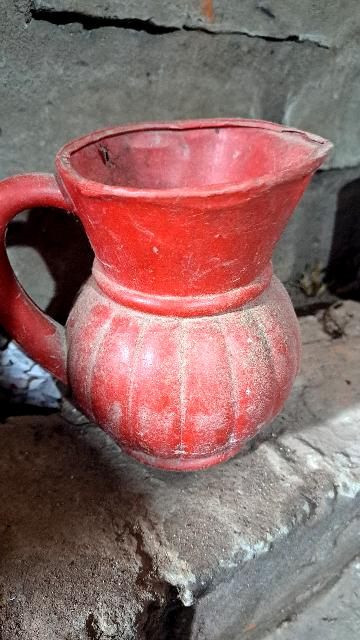hardplastic: (1, 112, 356, 462)
